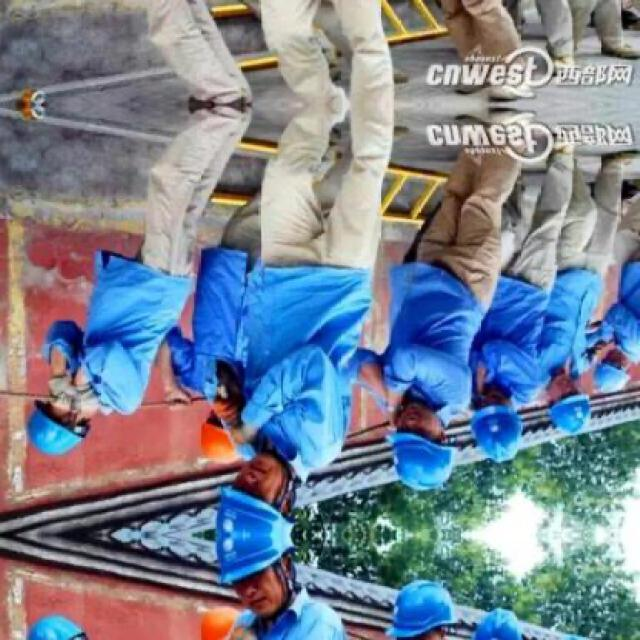con casco: (0, 375, 178, 506), (174, 456, 338, 587), (368, 347, 493, 502), (160, 483, 334, 583), (352, 531, 484, 640), (464, 361, 583, 475), (533, 366, 640, 466)
